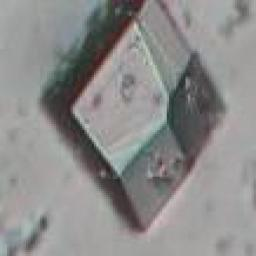crystals: (47, 0, 232, 240)
